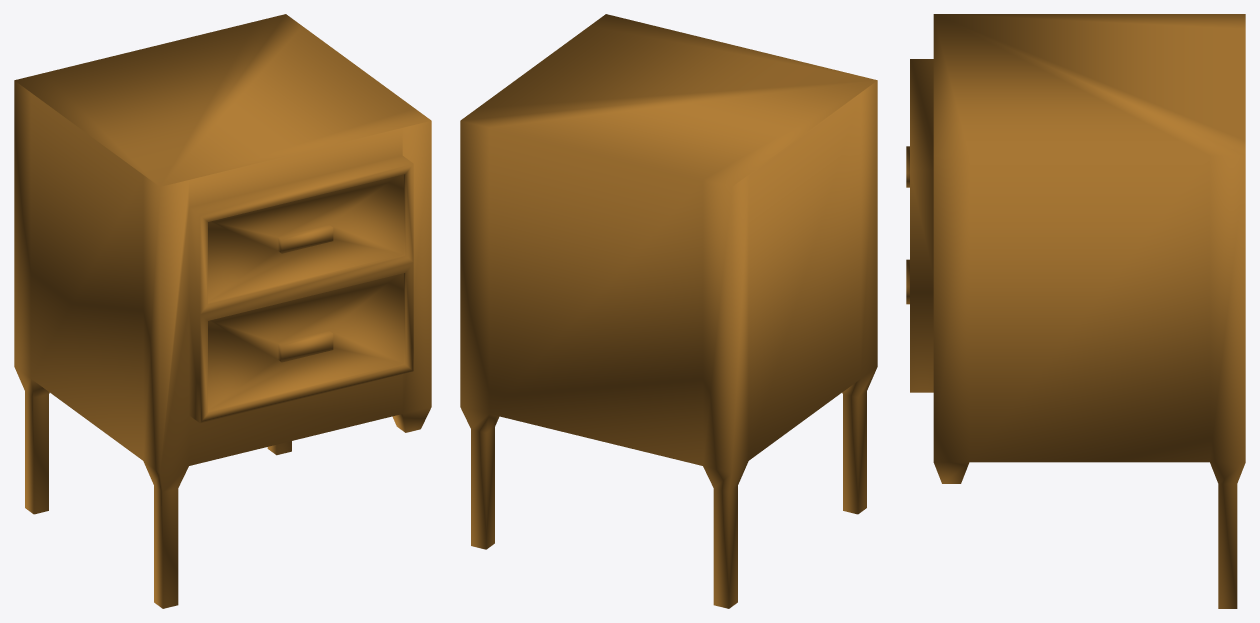
Rendered from NightstandNoLeg.fbx.
3 renders of one model, left to right at view 1: azimuth 30°, elevation 25°; view 2: azimuth 150°, elevation 25°; view 3: azimuth 270°, elevation 25°, orthographic. The views are drawn at different scales.
Parts seen in each view (by area): view 1: NightstandWithoutLeg:Box001; view 2: NightstandWithoutLeg:Box001; view 3: NightstandWithoutLeg:Box001.
Part boxes in pixels (x1,y1,x2,y2): NightstandWithoutLeg:Box001: (14,14,431,608); NightstandWithoutLeg:Box001: (460,14,877,608); NightstandWithoutLeg:Box001: (906,14,1245,608).
Bounding box in the file's own units: 39.37 × 59.06 × 39.8.
